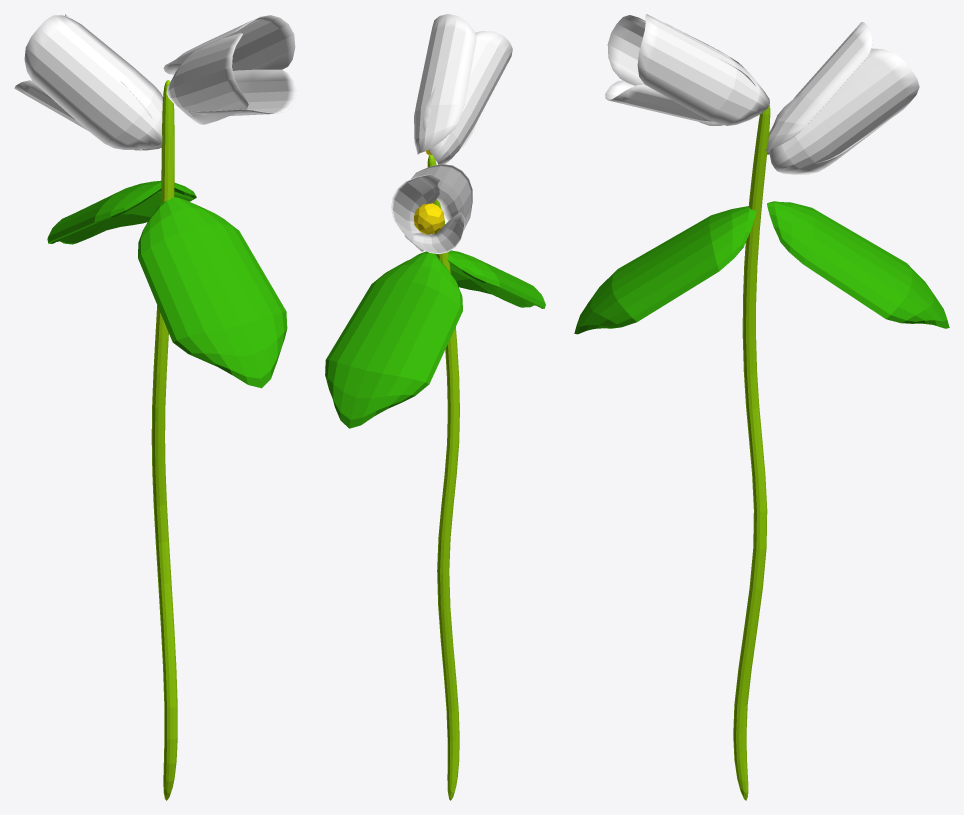
Rendered from Lima Flowering Reduced PolyFinal Solidfued.fbx.
The picture shows the model from 3 angles, left to right: view 1: azimuth 30°, elevation 25°; view 2: azimuth 150°, elevation 25°; view 3: azimuth 270°, elevation 25°; orthographic projection. The views are drawn at different scales.
Visible parts, largest first — view 1: Plane.008, Icosphere.002, Icosphere.003, Cylinder.001, Plane.009; view 2: Plane.009, Icosphere.003, Cylinder.001, Icosphere.002, Plane.008; view 3: Icosphere.002, Icosphere.003, Plane.009, Plane.008, Cylinder.001.
Part boxes in pixels (bbox=[...]): Plane.008: bbox=[138, 197, 287, 388]; Icosphere.002: bbox=[14, 14, 162, 150]; Icosphere.003: bbox=[163, 15, 296, 124]; Cylinder.001: bbox=[151, 80, 177, 800]; Plane.009: bbox=[47, 180, 196, 244]; Plane.009: bbox=[325, 252, 462, 428]; Icosphere.003: bbox=[414, 14, 512, 164]; Cylinder.001: bbox=[427, 154, 459, 800]; Icosphere.002: bbox=[391, 164, 472, 254]; Plane.008: bbox=[413, 250, 545, 308]; Icosphere.002: bbox=[765, 22, 919, 174]; Icosphere.003: bbox=[605, 14, 769, 125]; Plane.009: bbox=[767, 201, 949, 328]; Plane.008: bbox=[574, 206, 756, 334]; Cylinder.001: bbox=[733, 105, 770, 800].
Bounding box in the file's own units: 236 × 1164 × 491.
